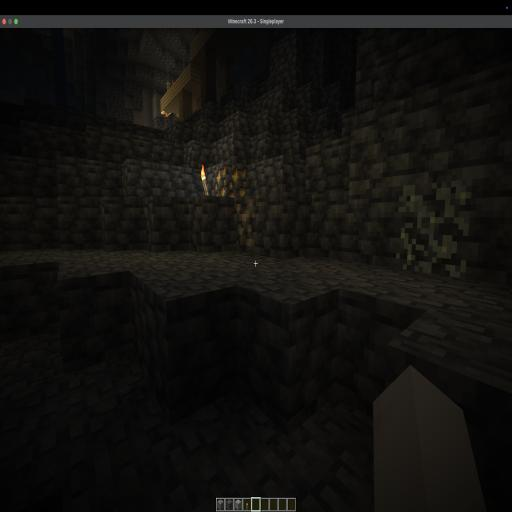gold ore: (212, 164, 250, 200)
iron ore: (233, 200, 262, 254)
